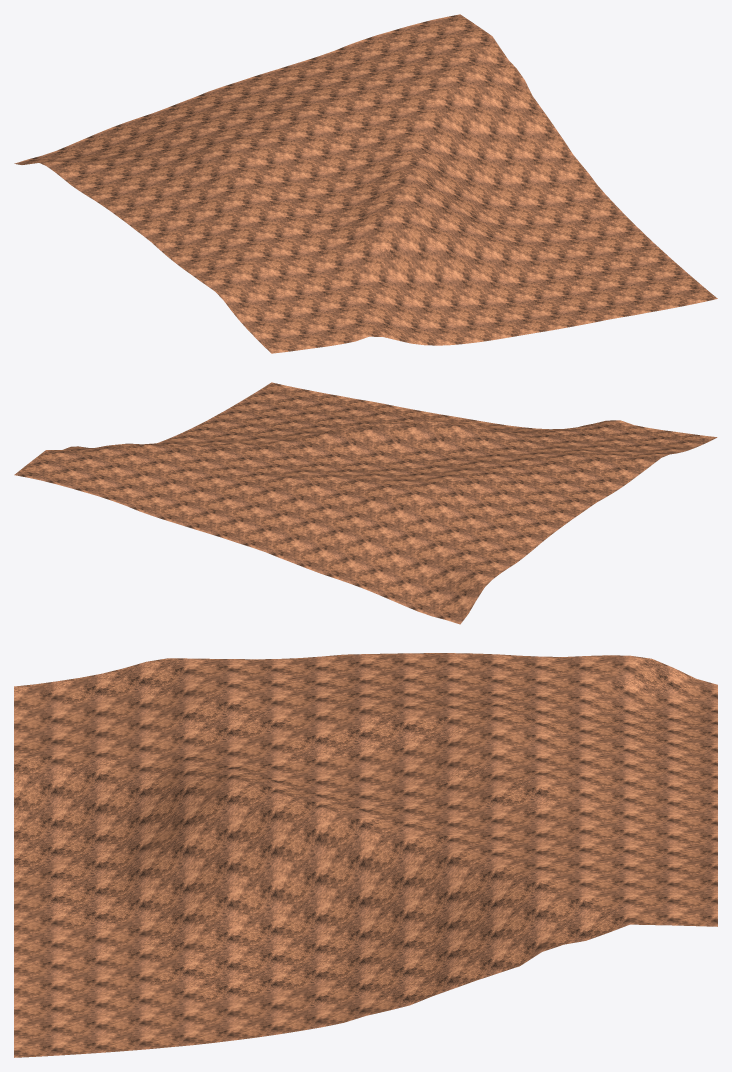
Rendered from terrain_00_12.dae.
3 renders of one model, top to bottom at view 1: azimuth 30°, elevation 25°; view 2: azimuth 150°, elevation 25°; view 3: azimuth 270°, elevation 25°, orthographic. The views are drawn at different scales.
Visible parts, largest first — view 1: terrain_00_12-node; view 2: terrain_00_12-node; view 3: terrain_00_12-node.
Part boxes in pixels (x1=…): terrain_00_12-node: x1=14, y1=14, x2=717, y2=353; terrain_00_12-node: x1=14, y1=382, x2=717, y2=624; terrain_00_12-node: x1=14, y1=653, x2=717, y2=1057.
Bounding box in the file's own units: 128 × 128 × 26.72.
1 material, 1 textured.
